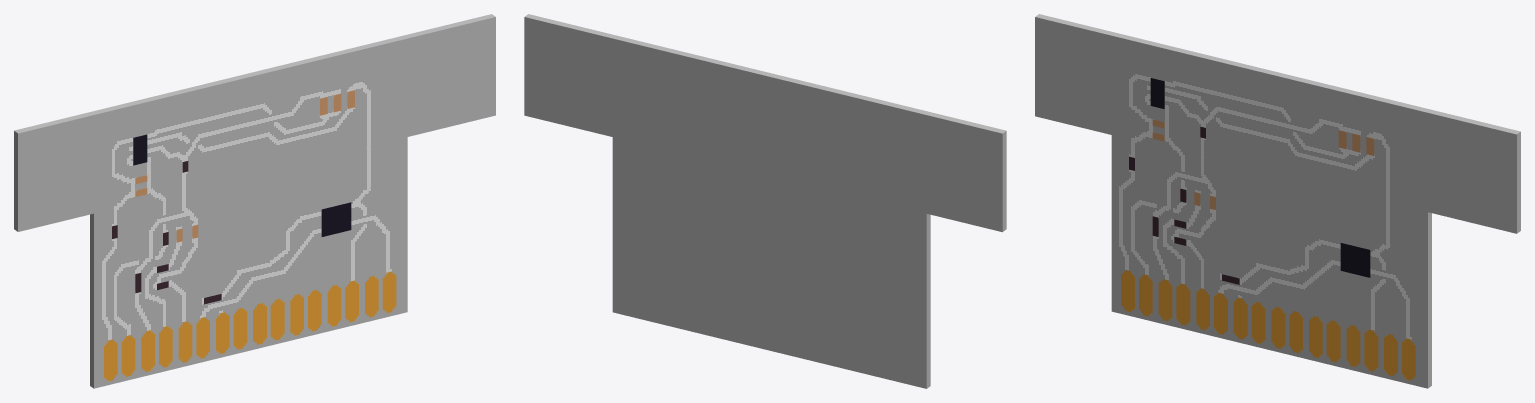
File: ChipT.glb
The picture shows the model from 3 angles, left to right: view 1: azimuth 30°, elevation 25°; view 2: azimuth 150°, elevation 25°; view 3: azimuth 330°, elevation 25°; orthographic projection.
Visible parts, largest first — view 1: Cube; view 2: Cube; view 3: Cube.
Boxes of the visible parts, left/top/right/bottom form: Cube: left=14, top=14, right=495, bottom=388; Cube: left=524, top=14, right=1006, bottom=388; Cube: left=1035, top=14, right=1520, bottom=388.
Bounding box in the file's own units: 7.9 × 4.32 × 0.1253.
Materials: 2 (2 with a texture image).
